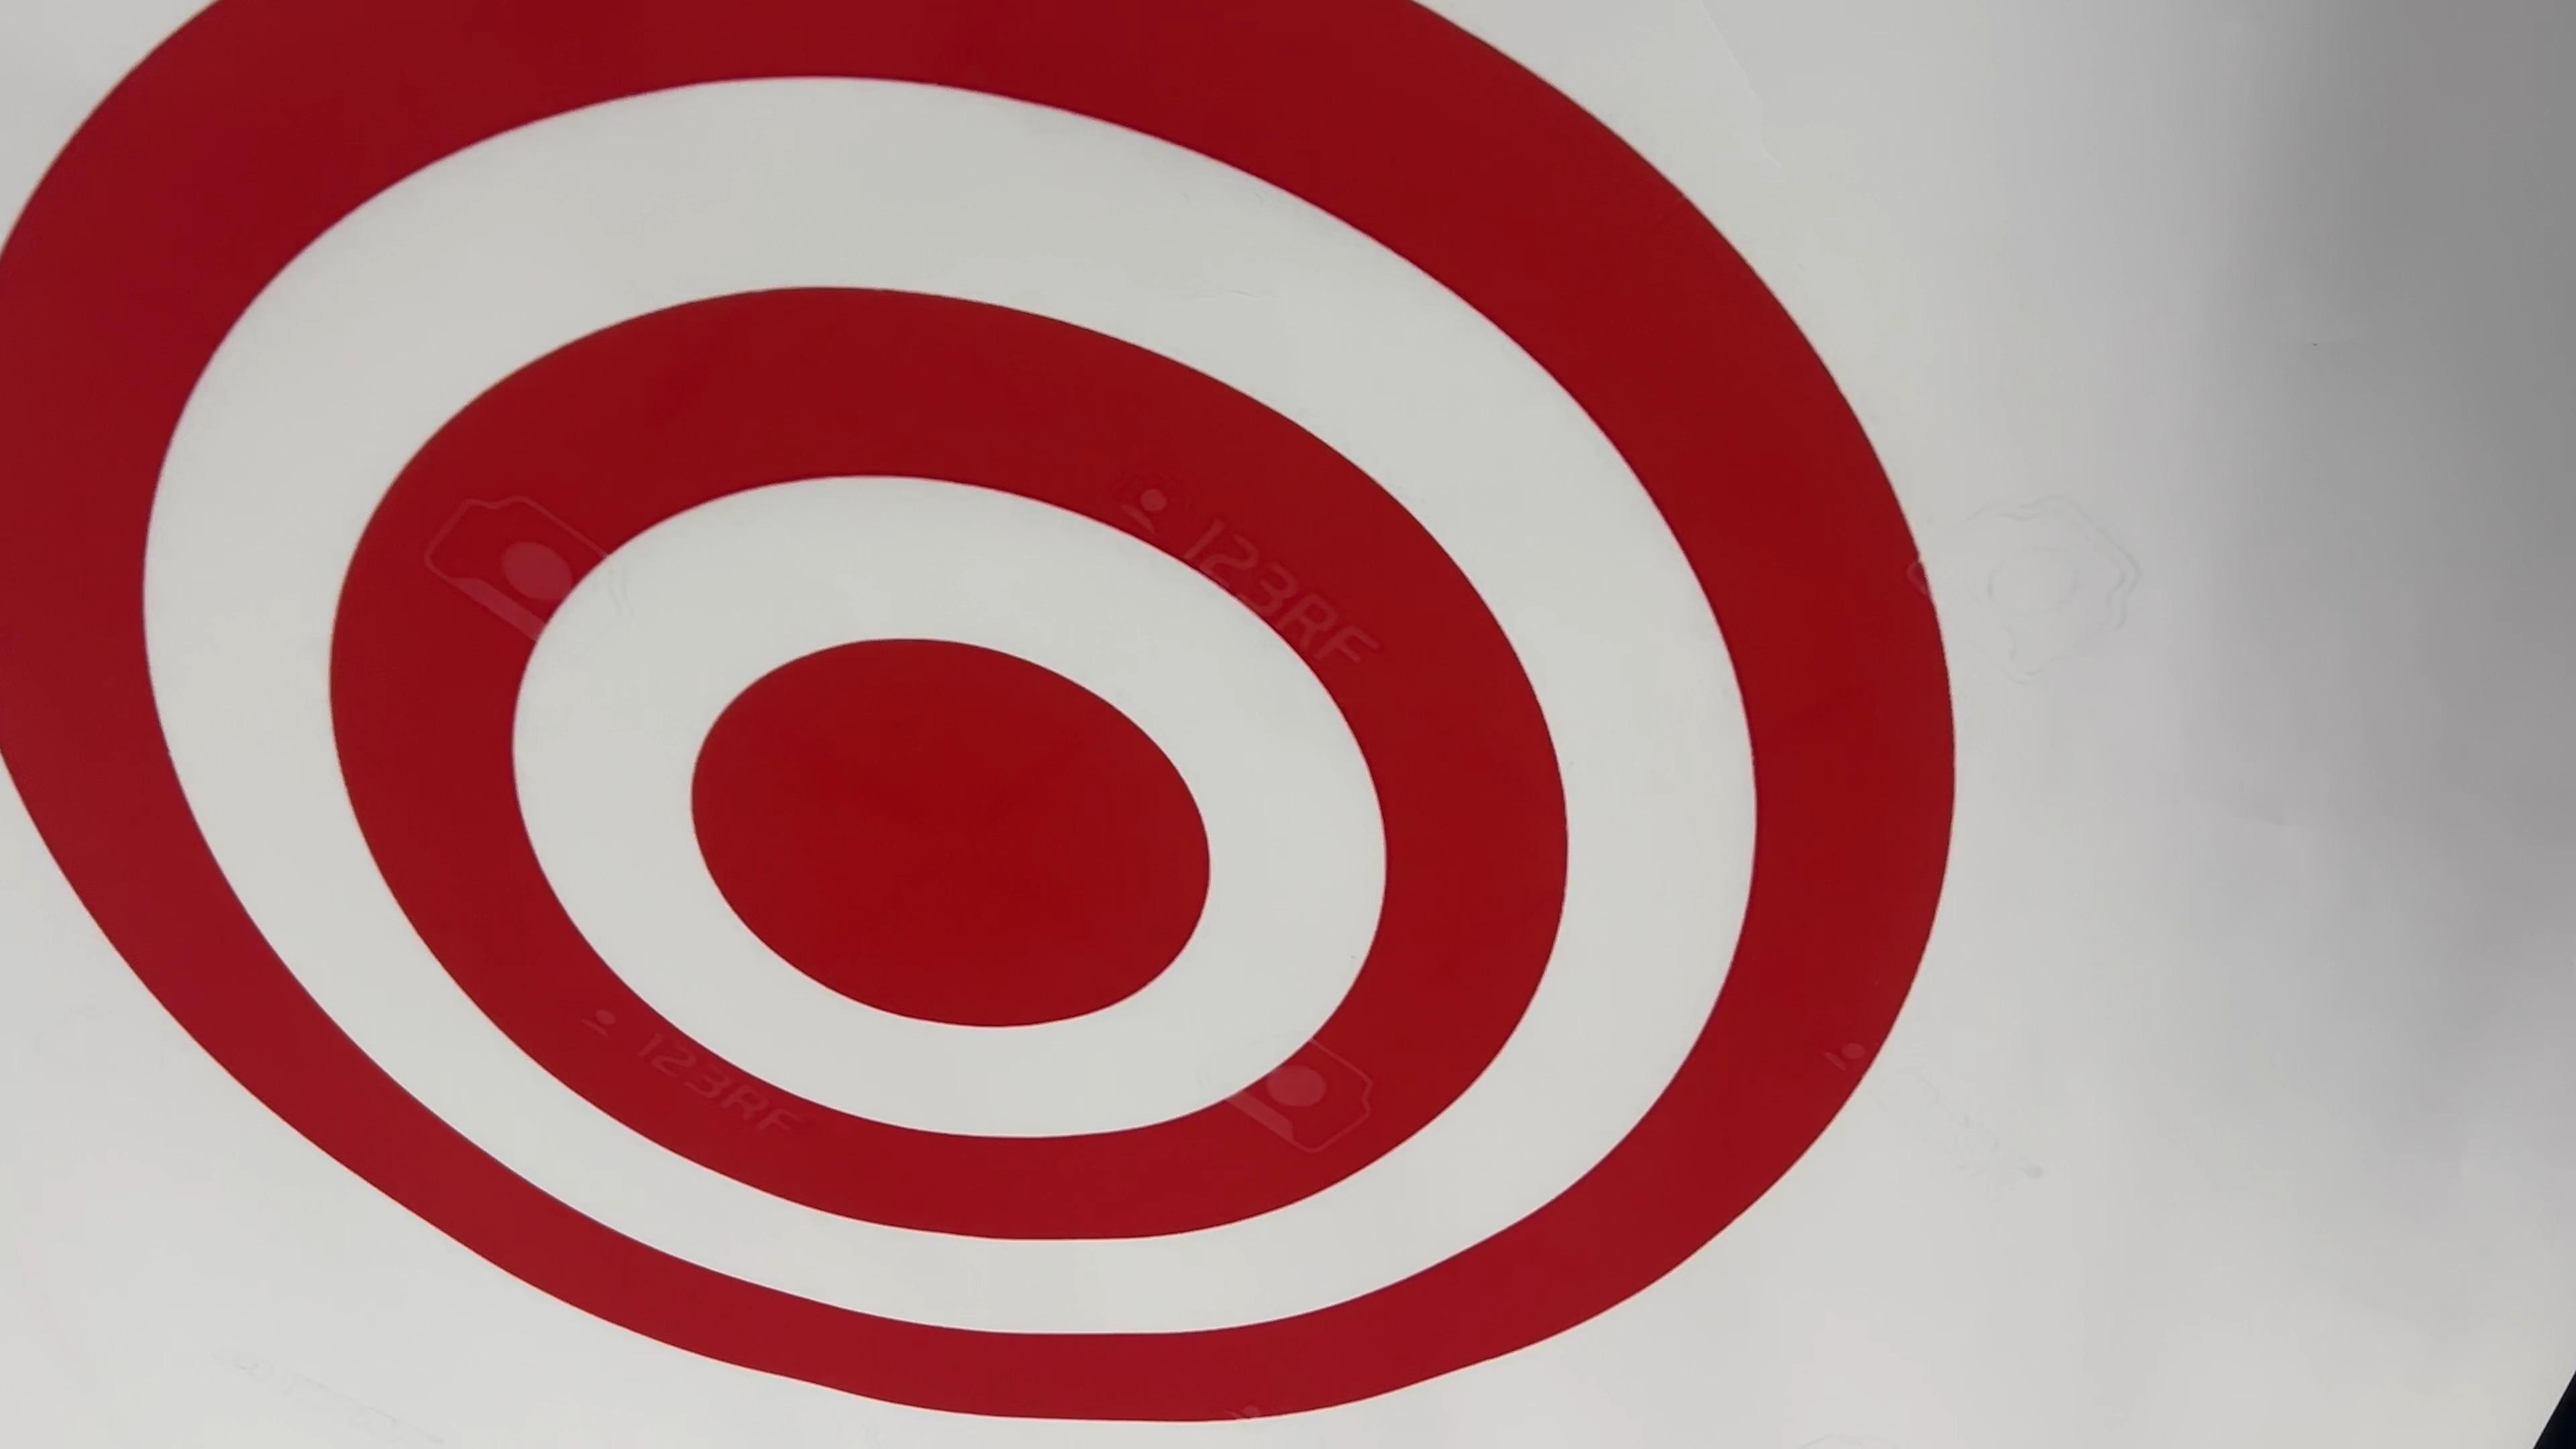target_red: (0, 0, 1987, 1449)
